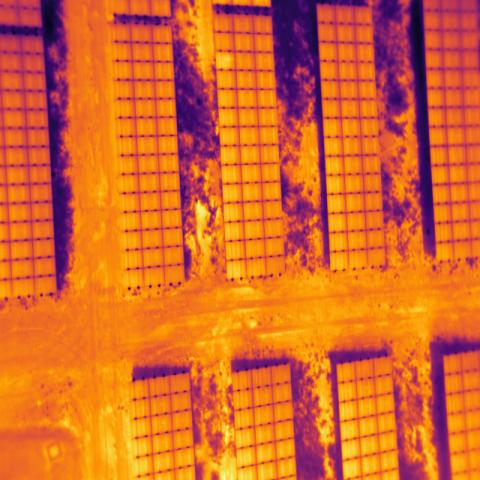fault: (215, 51, 238, 70)
